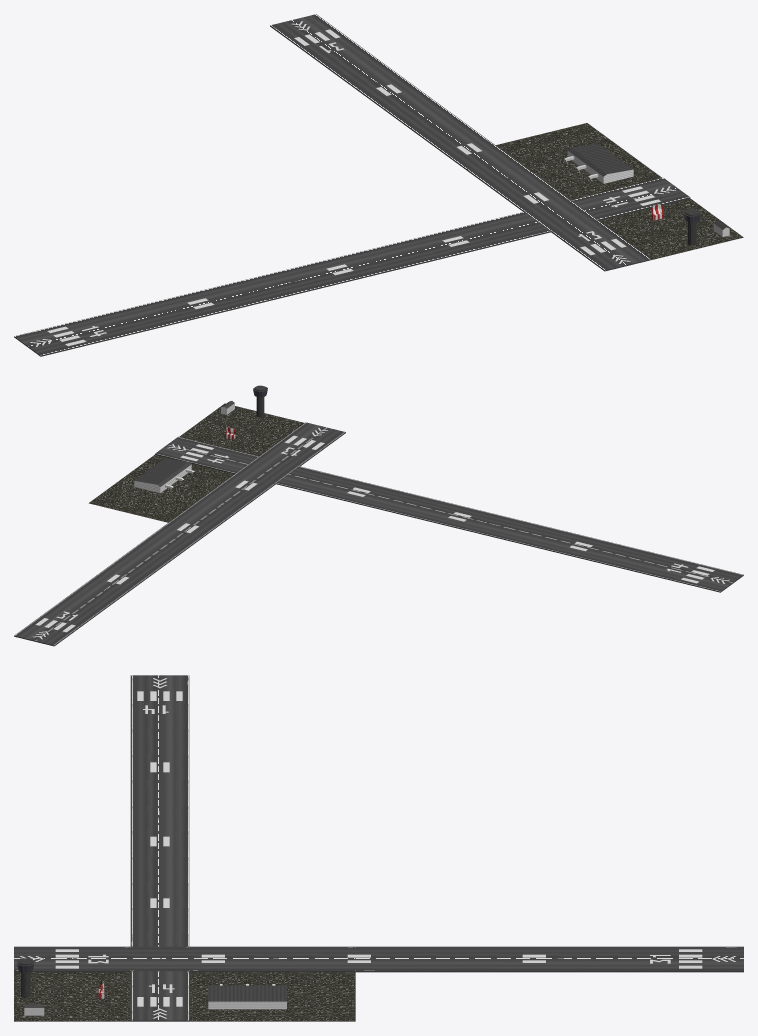
The model's file is airport.fbx.
The picture shows the model from 3 angles, top to bottom: view 1: azimuth 30°, elevation 25°; view 2: azimuth 150°, elevation 25°; view 3: azimuth 270°, elevation 25°; orthographic projection. The views are drawn at different scales.
Parts seen in each view (by area): view 1: Airport_Lanes, Airport_Lanes_Detail, Airport; view 2: Airport_Lanes, Airport_Lanes_Detail, Airport; view 3: Airport_Lanes, Airport_Lanes_Detail, Airport.
Part boxes in pixels (x1,y1,x2,y2): Airport_Lanes: [14, 14, 743, 356]; Airport_Lanes_Detail: [30, 21, 675, 346]; Airport: [564, 143, 633, 183]; Airport_Lanes: [14, 403, 743, 646]; Airport_Lanes_Detail: [33, 428, 729, 639]; Airport: [134, 458, 194, 493]; Airport_Lanes: [14, 675, 743, 1021]; Airport_Lanes_Detail: [20, 678, 735, 1018]; Airport: [208, 984, 286, 1009].
Bounding box in the file's own units: 2800 × 137 × 2500.
